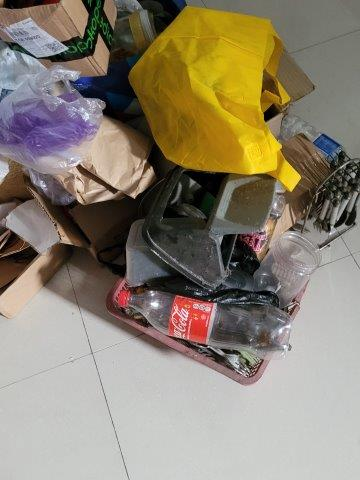botolplastik: (120, 290, 291, 355)
